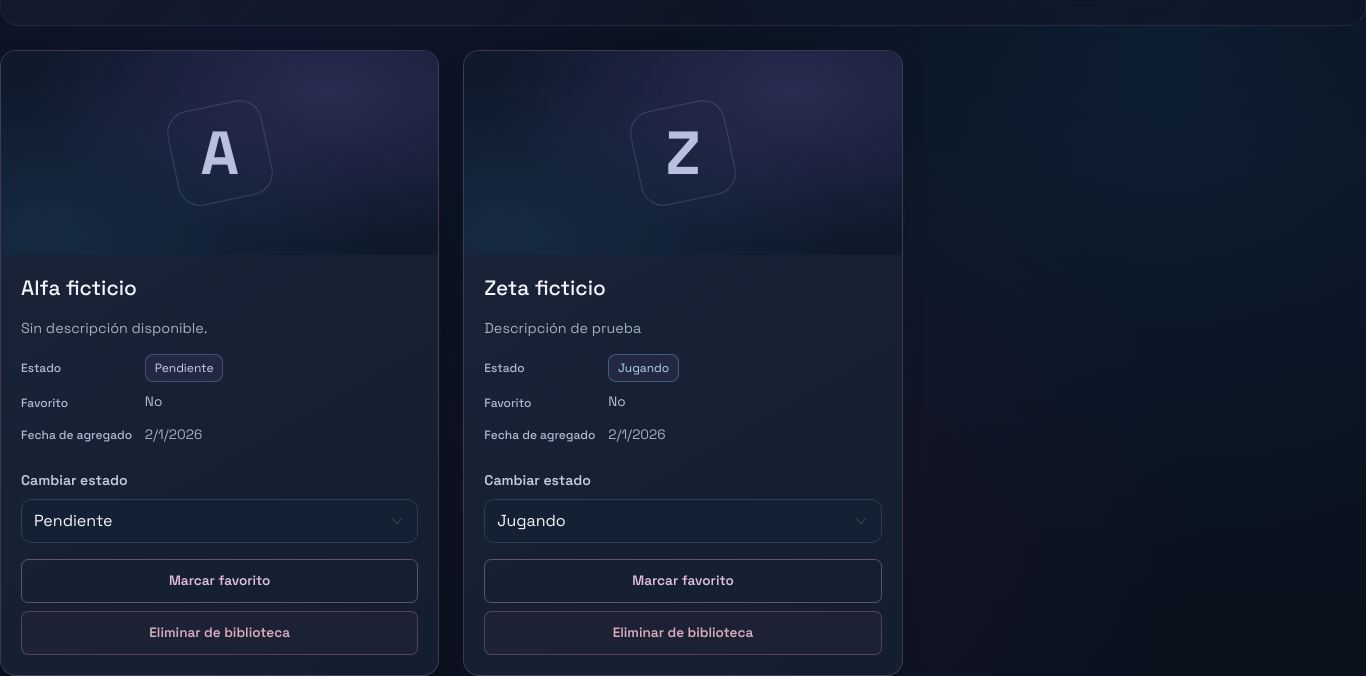
Scenario: Biblioteca con servicios reales y HTTP simulado › PATCH estado envía solo estado y reubica la entrada
(page scrolled)
Select "Completado" in the dropdown labelled "Cambiar estado" below "Pendiente": (220, 521) [21,499,418,543]
(page scrolled)
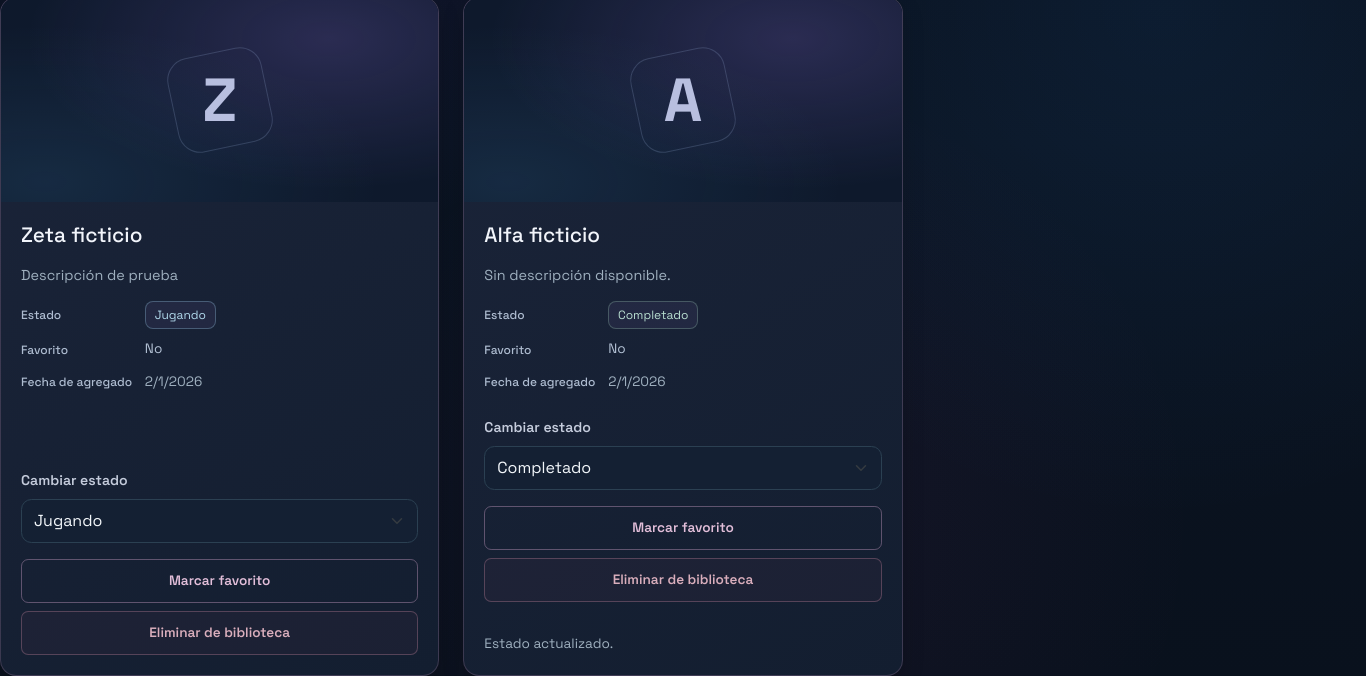
Now the text "Estado actualizado." is shown, box [484,635,613,652]
Now the headings read "Zeta ficticio", "Alfa ficticio", in this order, box [21,222,142,248]; [484,222,600,248]
